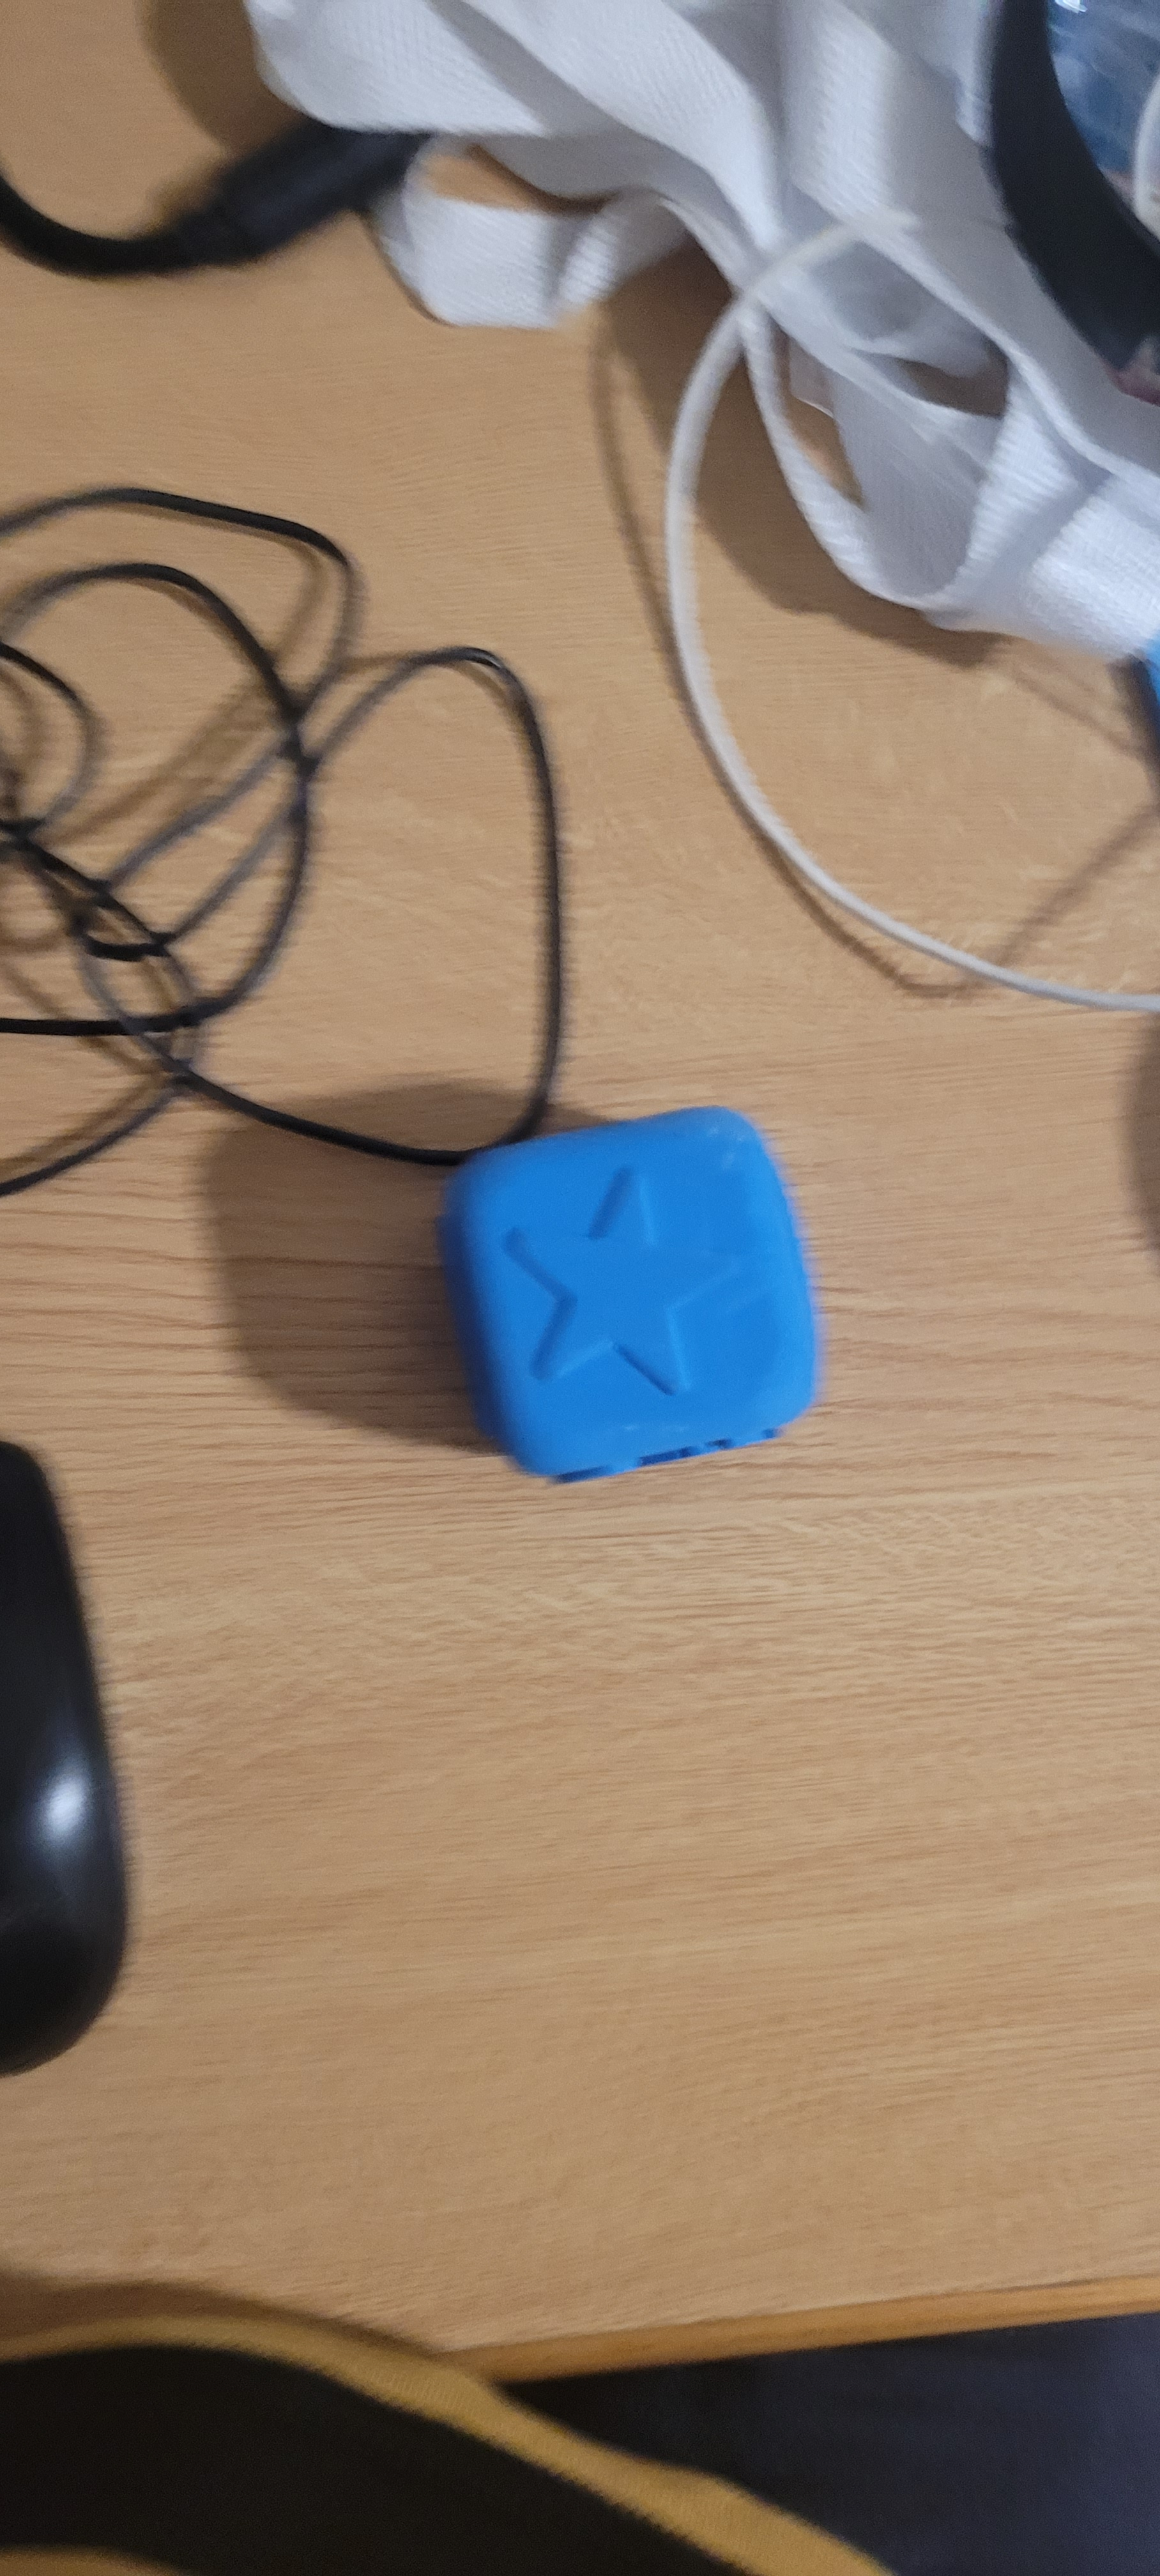Star: (483, 1125, 744, 1414)
